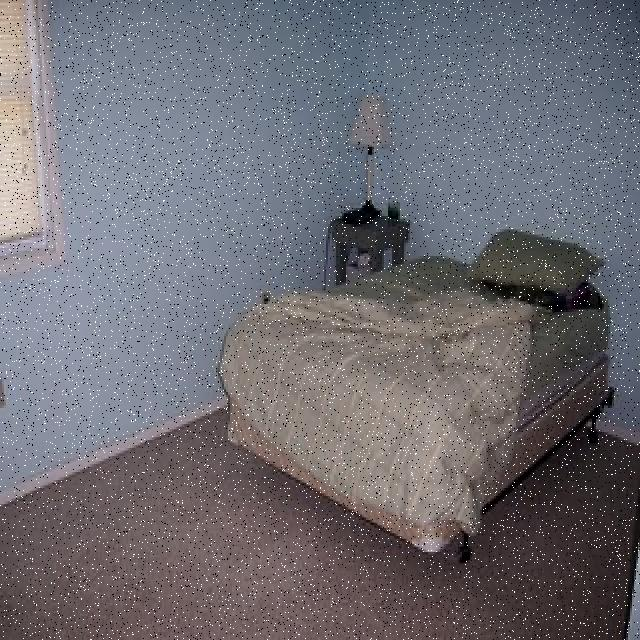bed: (218, 226, 610, 558)
